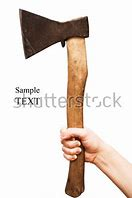axe: (17, 6, 96, 197)
